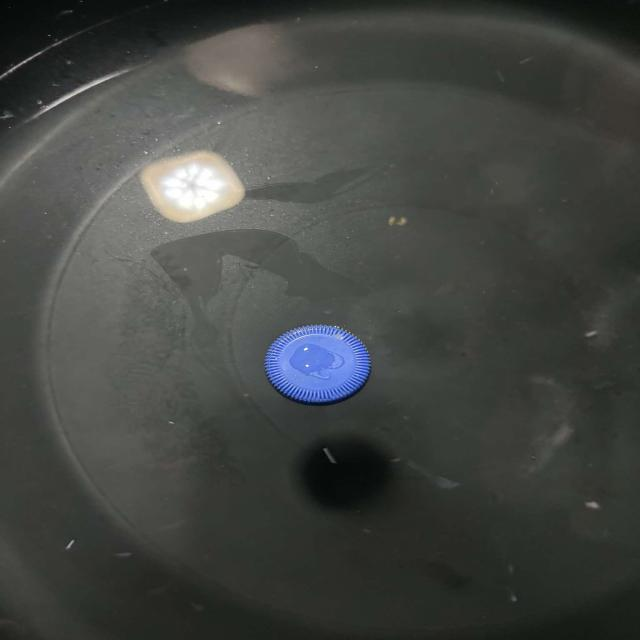Bottle Lid: (242, 308, 390, 420)
